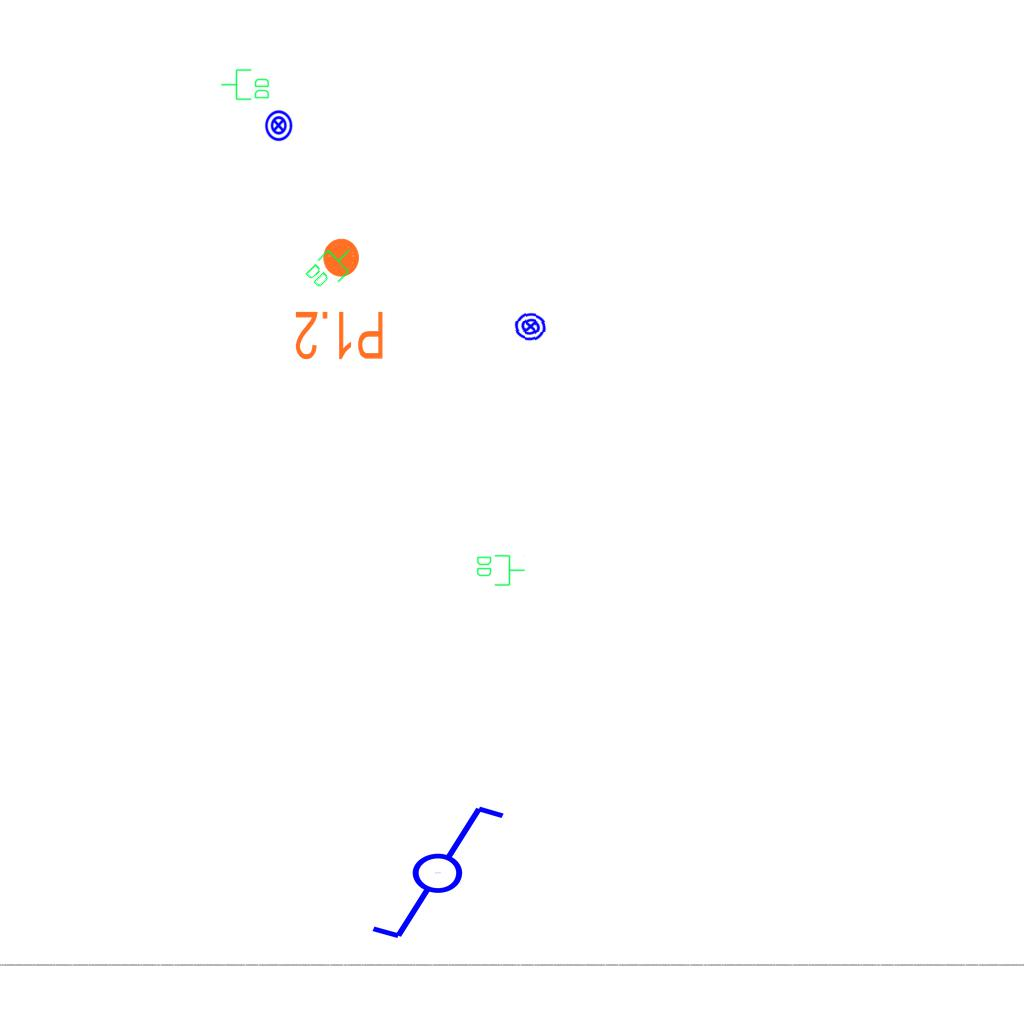Datenanschluss_zweifach: (301, 237, 362, 297), (220, 68, 271, 102), (475, 553, 526, 587)
Downlight_LED_Einbauleuchten_Flur: (293, 235, 386, 363)
Taster_beleuchtet: (512, 308, 549, 345), (262, 109, 295, 142)
Wechselschalter: (351, 799, 508, 943)
